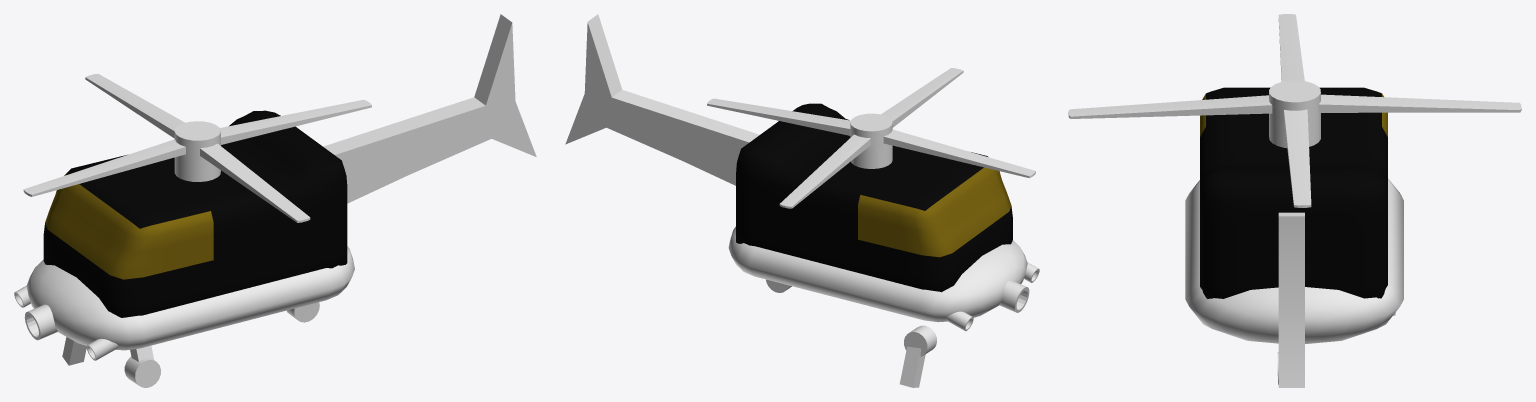
File: BlackHawk.FBX
3 renders of one model, left to right at view 1: azimuth 30°, elevation 25°; view 2: azimuth 150°, elevation 25°; view 3: azimuth 270°, elevation 25°, orthographic. The views are drawn at different scales.
Parts seen in each view (by area): view 1: Box001, Line001, Capsule001, Cylinder001, Cylinder008, Cylinder005, Box006, Cylinder006; view 2: Box001, Capsule001, Line001, Cylinder001, Box006, Cylinder005, Cylinder009; view 3: Box001, Cylinder001, Capsule001, Line001.
Part boxes in pixels (x1=…): Box001: x1=43, y1=110, x2=347, y2=317; Line001: x1=323, y1=14, x2=536, y2=203; Capsule001: x1=26, y1=246, x2=354, y2=350; Cylinder001: x1=23, y1=73, x2=371, y2=222; Cylinder008: x1=124, y1=356, x2=160, y2=387; Cylinder005: x1=24, y1=304, x2=57, y2=340; Box006: x1=62, y1=337, x2=86, y2=365; Cylinder006: x1=86, y1=338, x2=118, y2=360; Box001: x1=736, y1=103, x2=1012, y2=292; Capsule001: x1=728, y1=226, x2=1027, y2=322; Line001: x1=565, y1=14, x2=759, y2=185; Cylinder001: x1=707, y1=68, x2=1035, y2=208; Box006: x1=899, y1=346, x2=925, y2=387; Cylinder005: x1=999, y1=280, x2=1029, y2=312; Cylinder009: x1=904, y1=325, x2=936, y2=356; Box001: x1=1200, y1=87, x2=1387, y2=298; Cylinder001: x1=1068, y1=14, x2=1521, y2=207; Capsule001: x1=1185, y1=178, x2=1403, y2=343; Line001: x1=1278, y1=212, x2=1304, y2=387.
Size of the model in its own units: 234 by 123 by 161.
